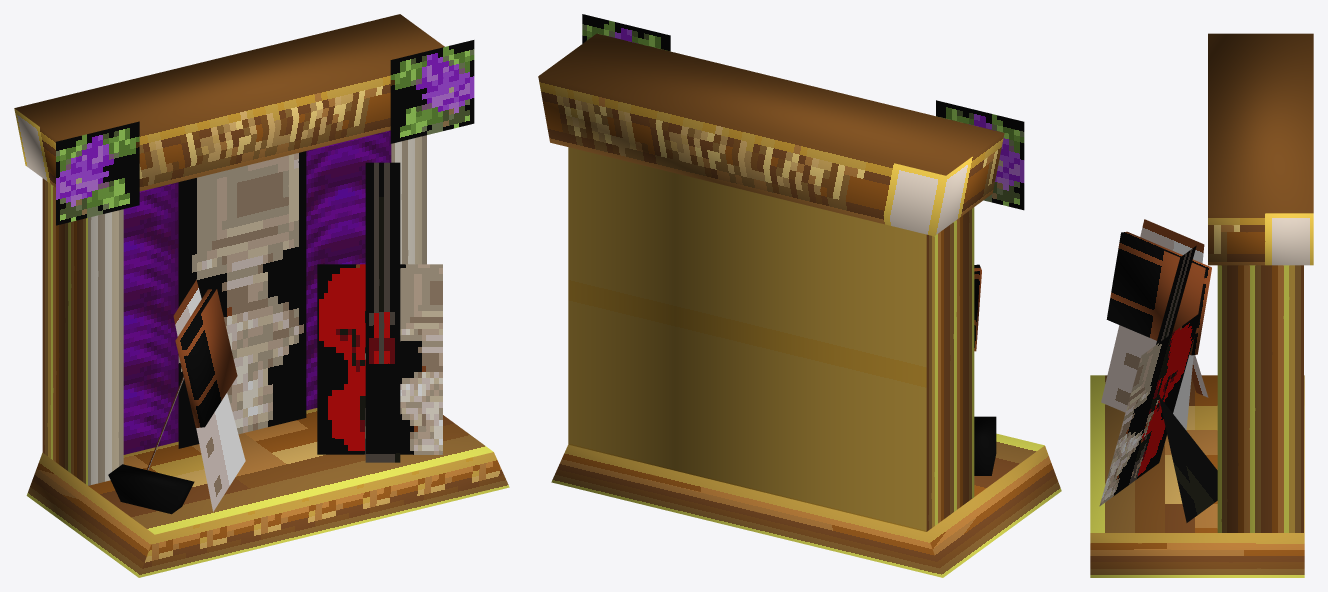
3 renders of one model, left to right at view 1: azimuth 30°, elevation 25°; view 2: azimuth 150°, elevation 25°; view 3: azimuth 270°, elevation 25°, orthographic. The views are drawn at different scales.
Parts seen in each view (by area): view 1: 3776kg_sh0_23; view 2: 3776kg_sh0_23; view 3: 3776kg_sh0_23.
Boxes of the visible parts, left/top/right/bottom form: 3776kg_sh0_23: left=14, top=14, right=509, bottom=577; 3776kg_sh0_23: left=538, top=14, right=1061, bottom=577; 3776kg_sh0_23: left=1090, top=33, right=1313, bottom=577.
Size of the model in its own units: 1.87 by 1.8 by 0.9067.
4 materials, 4 textured.
